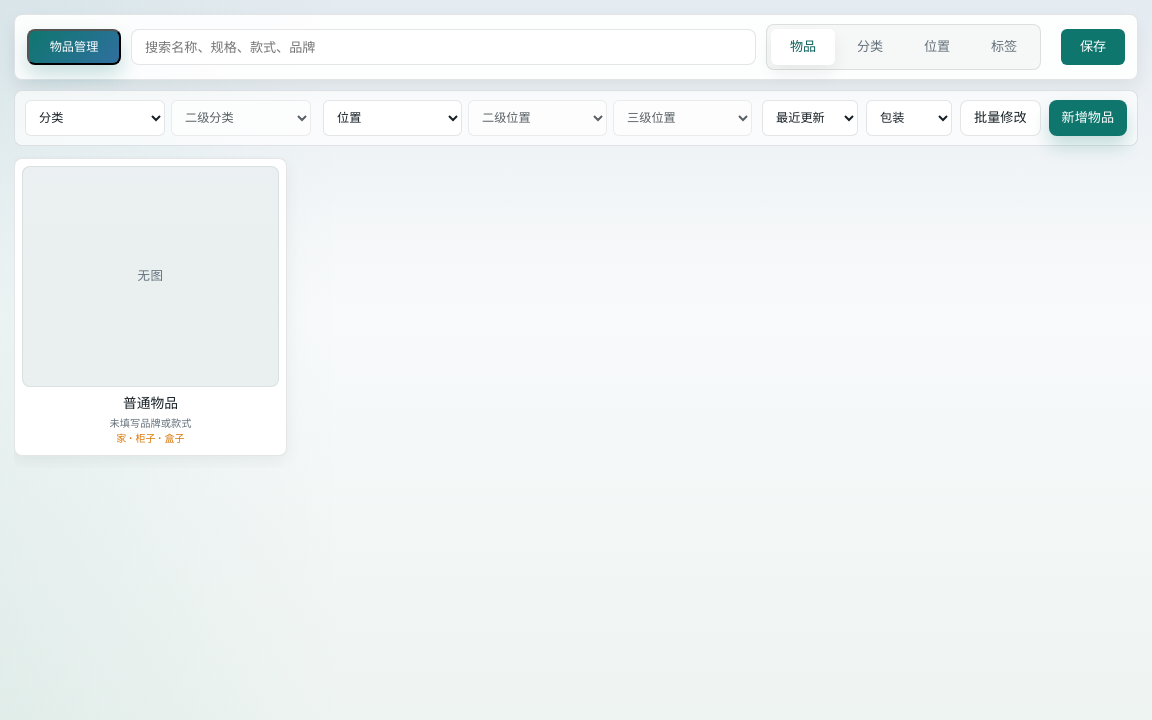
Scenario: catalog confirmation persists to NAS › does not disclose privacy when a new Look category is hidden from the ordinary projection
Expected: the button "无图 普通物品 未填写品牌或款式 家 · 柜子 · 盒子" is shown, [14,158,287,456]
Click the button "分类". click: (870, 47)
box: [838,29,902,65]
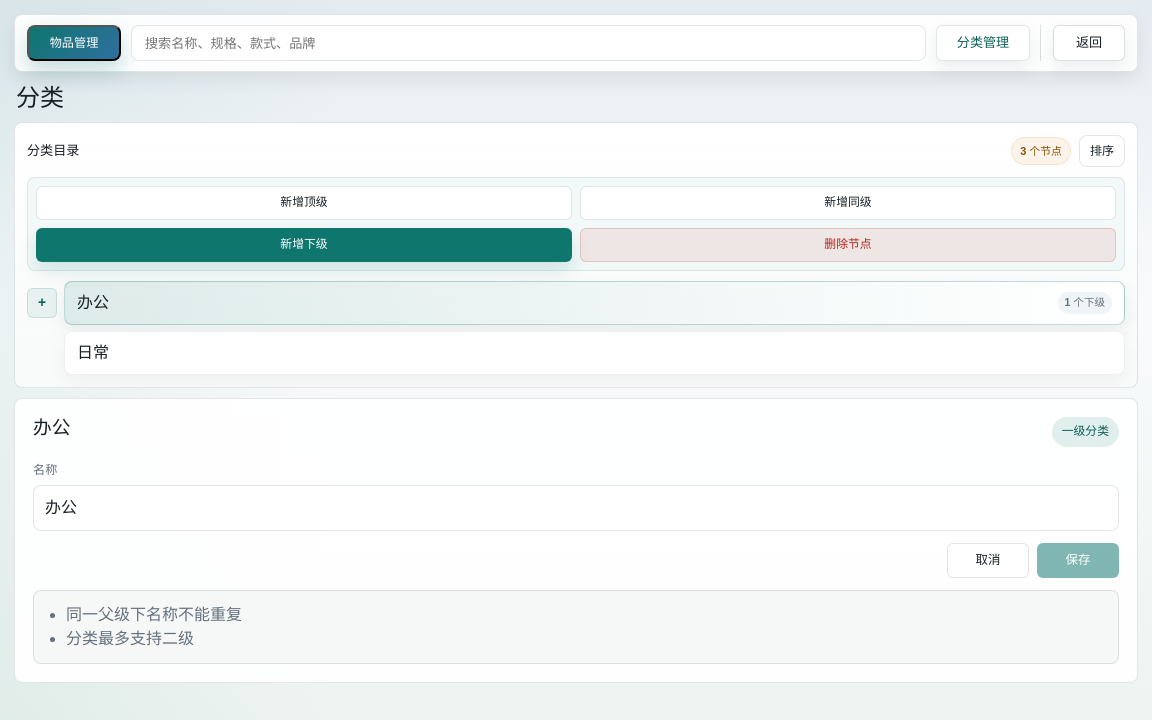
Click the button "新增顶级". click: (304, 203)
box: [36,186,572,220]
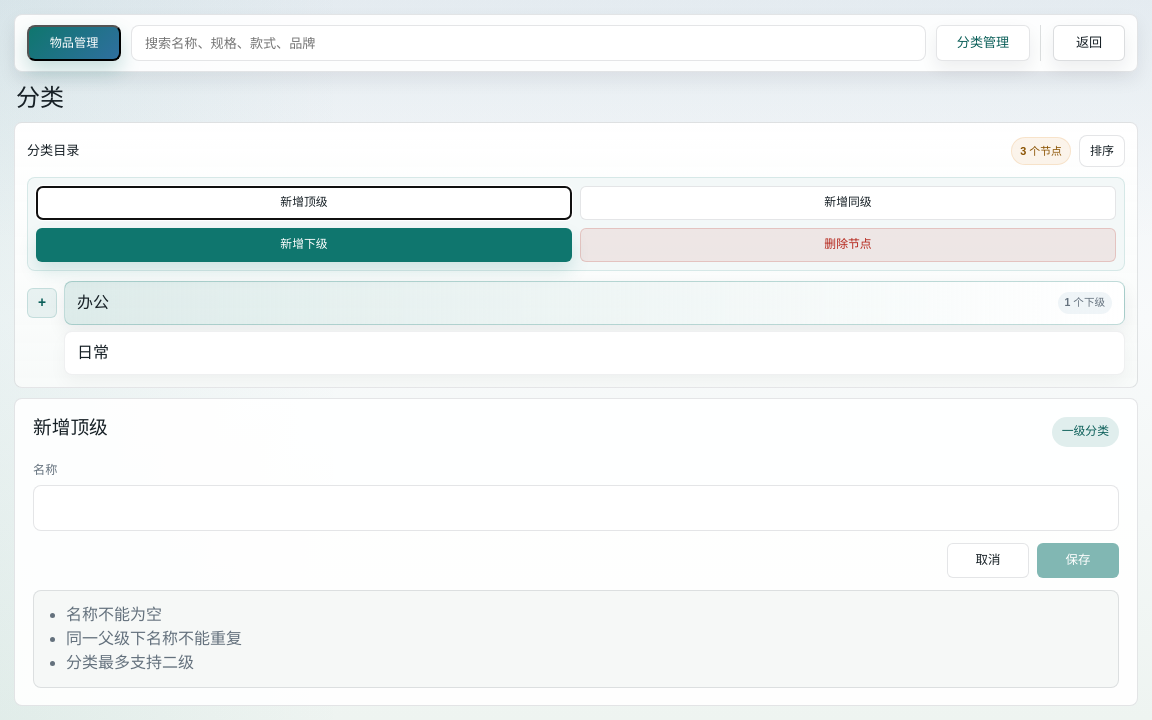
Type "Look" into the field labelled "名称". click: (576, 508)
box: [33,485,1119,531]
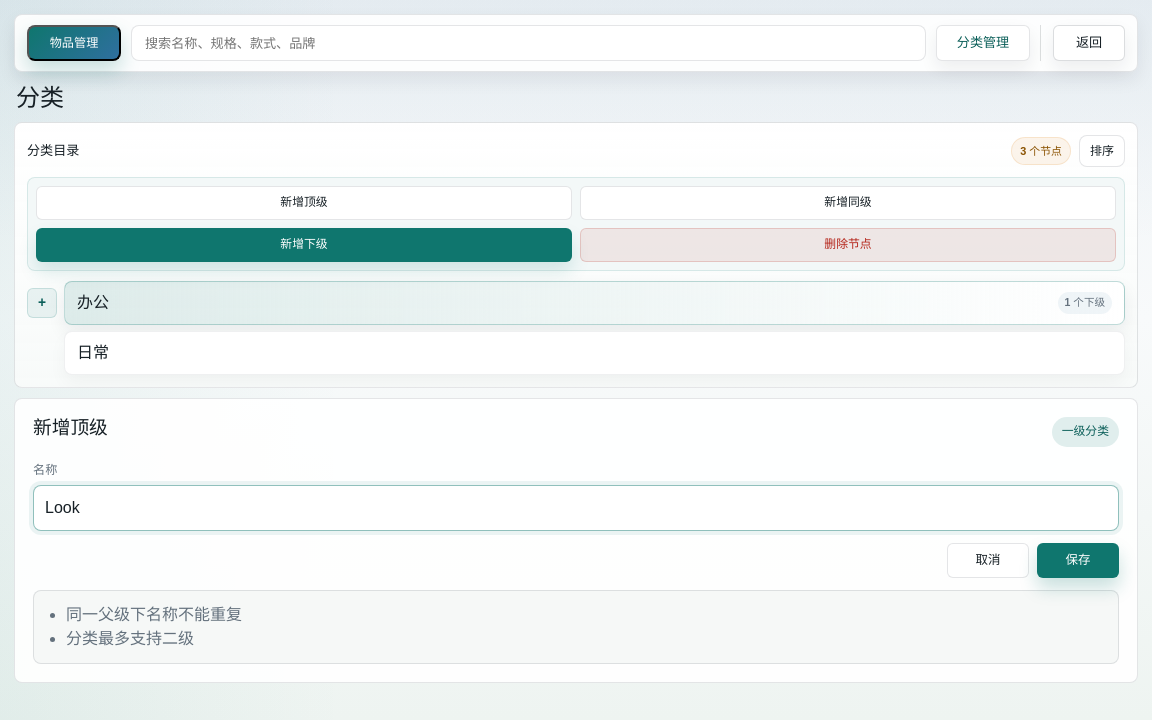
Click the button "保存". click: (1078, 560)
box: [1037,543,1119,578]
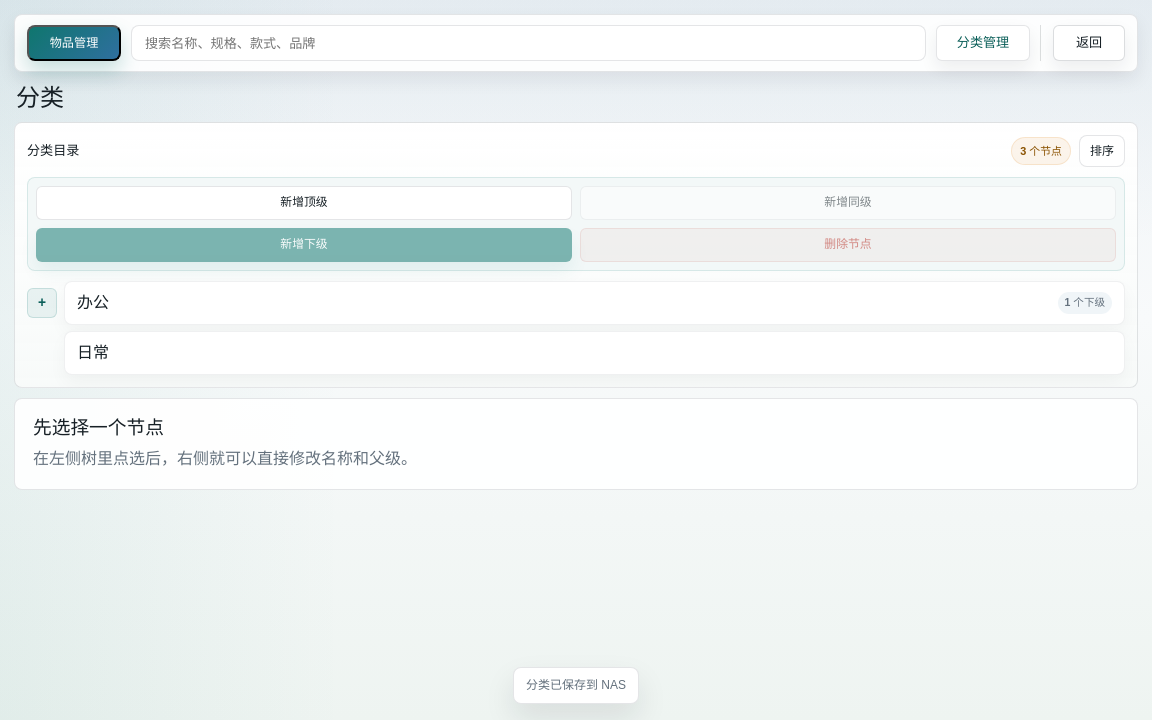
Expected: the list item "Look" is not shown
Result: the text "分类已保存到 NAS" is shown at [526,676,626,695]
